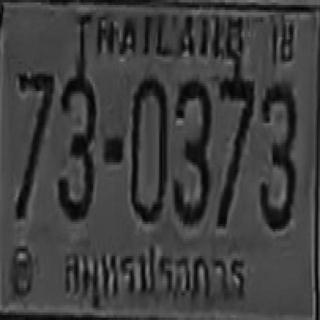N00: (129, 75, 167, 220)
N03: (56, 69, 96, 219), (171, 78, 210, 223), (258, 80, 296, 228)
N07: (14, 71, 54, 217), (216, 73, 254, 225)
P57: (62, 247, 248, 310)
